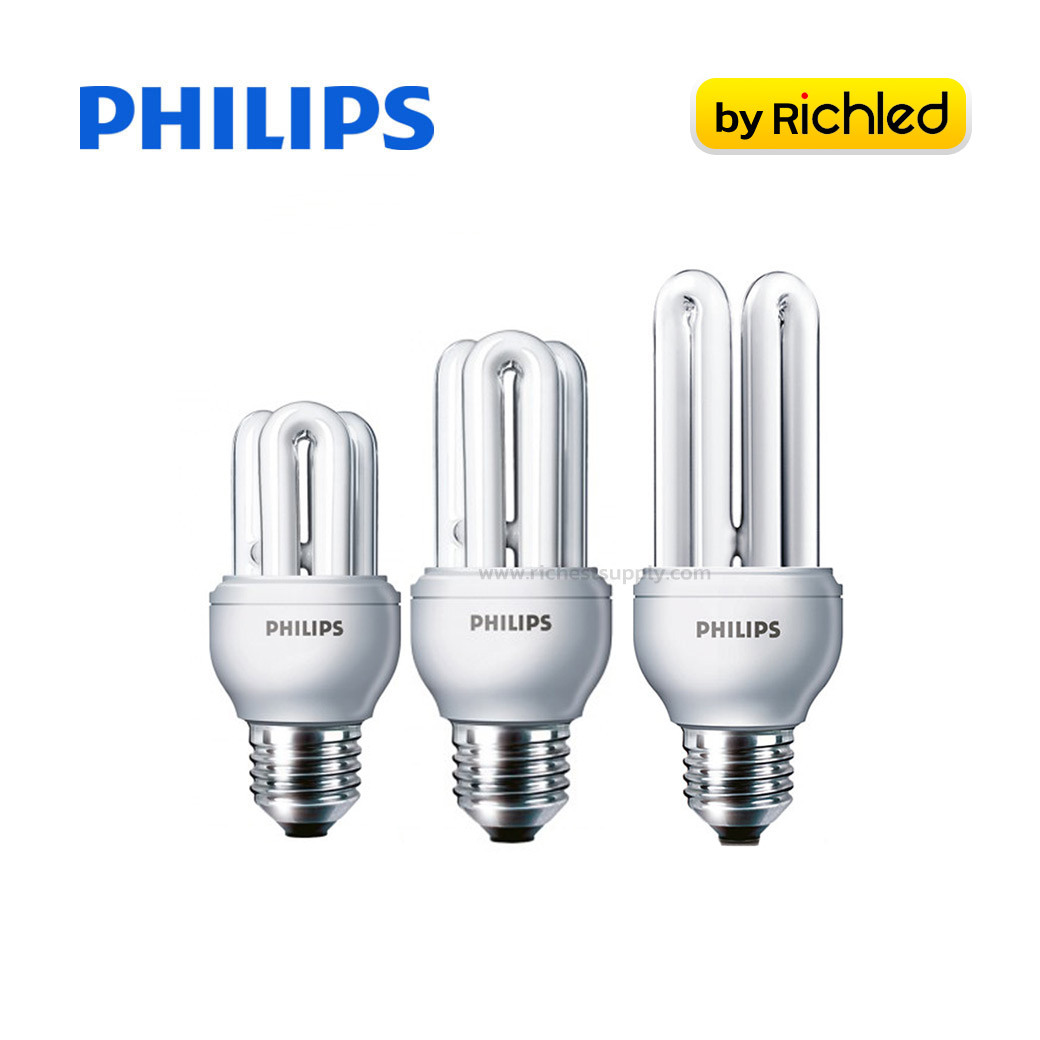Light_bulb: (620, 261, 858, 852), (403, 320, 635, 866), (198, 400, 413, 847)
